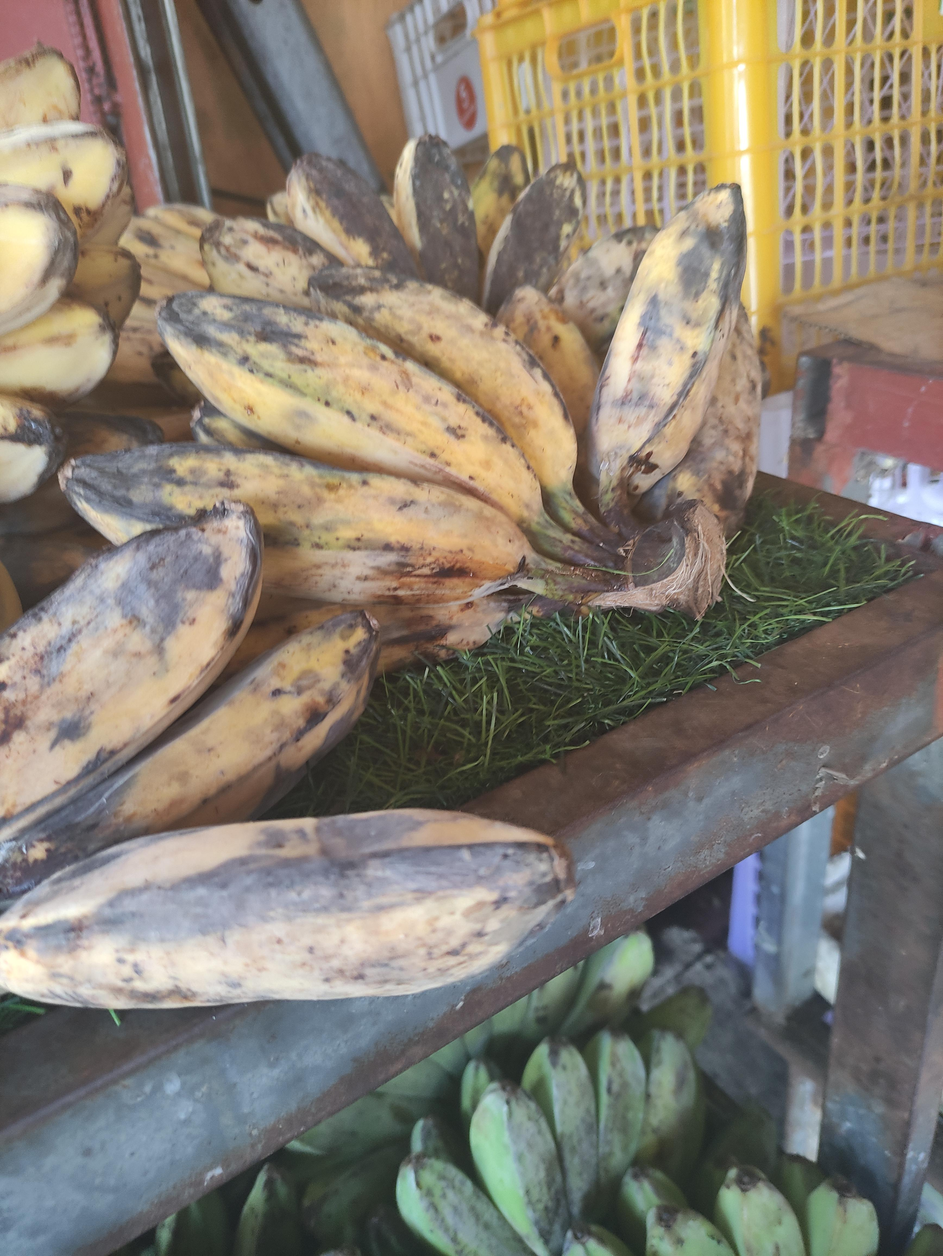ripe: (59, 184, 761, 684), (0, 502, 573, 1009), (200, 134, 656, 357), (0, 43, 140, 503), (107, 203, 215, 383)
underripe: (281, 930, 654, 1249), (361, 1028, 706, 1256), (562, 1154, 879, 1256), (141, 1161, 360, 1256)
